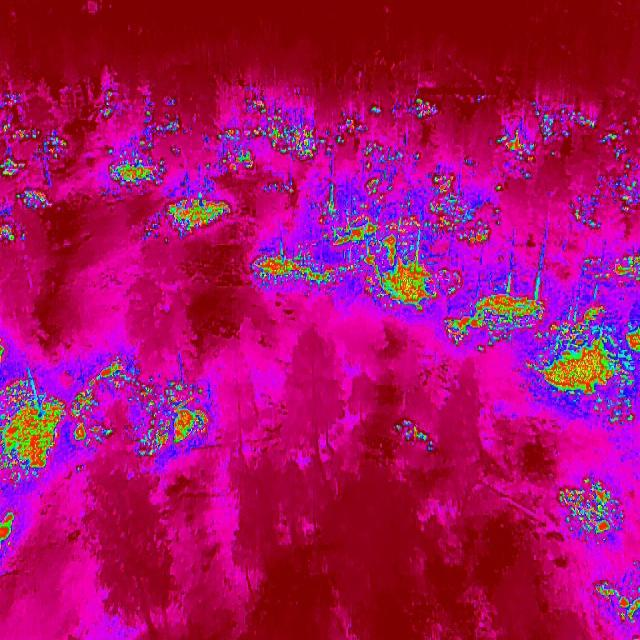fire: (68, 353, 222, 465), (531, 300, 640, 428), (206, 94, 330, 182), (0, 91, 70, 246), (442, 267, 554, 355), (97, 88, 178, 194), (400, 168, 504, 250), (0, 377, 71, 489), (314, 178, 400, 262), (564, 130, 640, 225), (356, 234, 441, 311), (556, 474, 622, 546), (248, 247, 354, 289), (162, 194, 232, 238), (592, 571, 640, 629), (587, 242, 640, 294), (540, 100, 600, 142), (487, 112, 535, 157), (392, 416, 442, 456), (408, 95, 440, 124), (361, 138, 391, 168), (336, 112, 368, 140), (0, 508, 21, 546), (470, 92, 494, 107), (0, 336, 11, 368)
